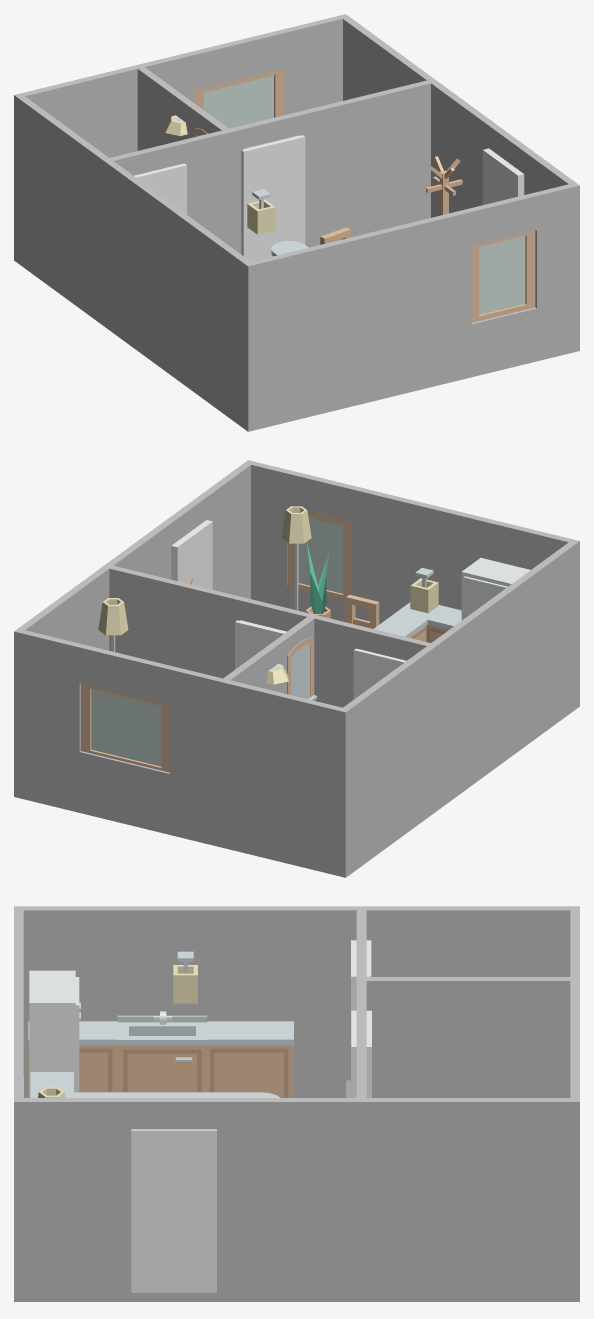
File: ApartmentFurnished.fbx
The picture shows the model from 3 angles, top to bottom: view 1: azimuth 30°, elevation 25°; view 2: azimuth 150°, elevation 25°; view 3: azimuth 270°, elevation 25°; orthographic projection. The views are drawn at different scales.
Parts seen in each view (by area): view 1: Body1.001, CTRL_Hole.001, window, window.001, CTRL_Hole, CTRL_Hole.002, lampSquareCeiling, coatRackStanding; view 2: Body1.001, window.001, window, CTRL_Hole, bathroomMirror, CTRL_Hole.002, CTRL_Hole.001, kitchenFridge, lampRoundFloor, kitchenBar.002, lampSquareCeiling, lampRoundFloor.001 (+4 smaller); view 3: Body1.001, CTRL_Hole, kitchenBar.006, kitchenFridge, kitchenSink, door, kitchenBar, lampSquareCeiling, CTRL_Hole.001, kitchenBar.001, CTRL_Hole.002, kitchenBar.003.
Boxes of the visible parts, box(x1,y1,x2,y2) form: Body1.001: box(14, 14, 579, 431); CTRL_Hole.001: box(241, 135, 305, 261); window: box(472, 231, 535, 322); window.001: box(194, 69, 284, 128); CTRL_Hole: box(482, 148, 523, 204); CTRL_Hole.002: box(134, 163, 186, 214); lampSquareCeiling: box(247, 189, 275, 234); coatRackStanding: box(426, 156, 462, 215); Body1.001: box(14, 460, 579, 877); window.001: box(81, 683, 169, 772); window: box(287, 506, 351, 601); CTRL_Hole: box(171, 520, 212, 589); bathroomMirror: box(287, 637, 317, 700); CTRL_Hole.002: box(353, 648, 406, 699); CTRL_Hole.001: box(235, 620, 286, 669); kitchenFridge: box(461, 558, 530, 620); lampRoundFloor: box(281, 506, 311, 610); kitchenBar.002: box(378, 602, 444, 641); lampSquareCeiling: box(410, 567, 438, 613); lampRoundFloor.001: box(98, 598, 128, 651); Body1.001: box(14, 906, 579, 1301); CTRL_Hole: box(131, 1129, 216, 1292); kitchenBar.006: box(204, 1021, 293, 1097); kitchenFridge: box(29, 970, 75, 1097); kitchenSink: box(117, 1011, 207, 1092); door: box(123, 1049, 201, 1092); kitchenBar: box(28, 1021, 117, 1097); lampSquareCeiling: box(173, 951, 197, 1003); CTRL_Hole.001: box(351, 1010, 371, 1097); kitchenBar.001: box(30, 1072, 73, 1094); CTRL_Hole.002: box(351, 940, 371, 1097); kitchenBar.003: box(119, 1092, 206, 1097).
Size of the model in its own units: 553 by 270 by 658.
